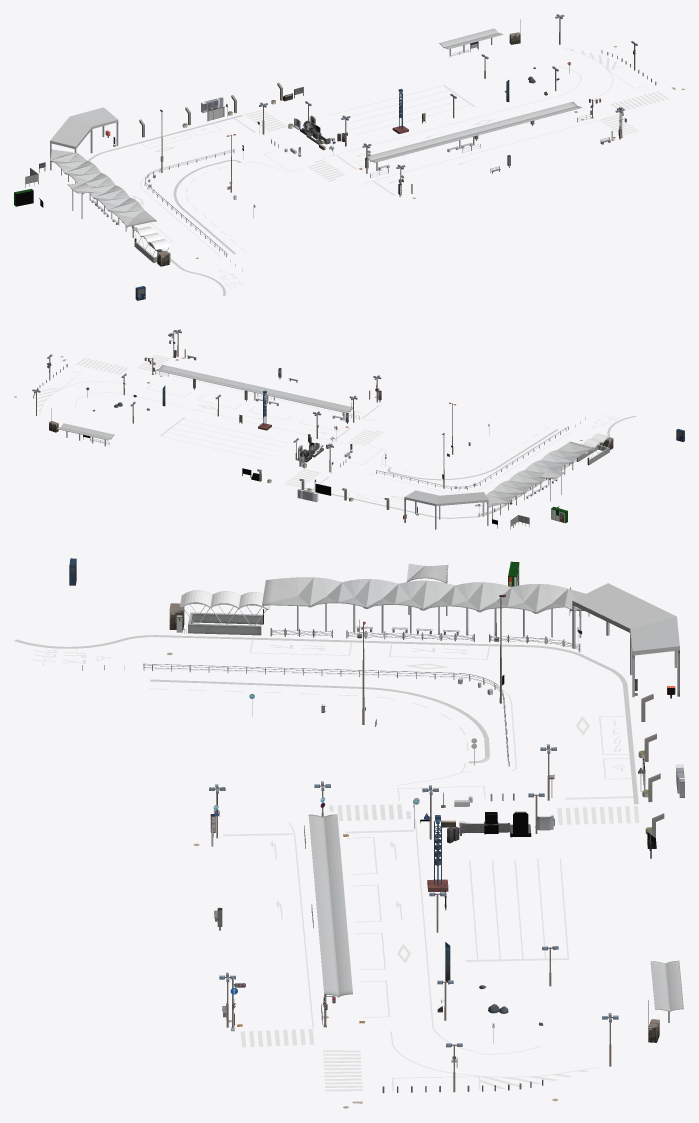
The model's file is frn--20.glb.
3 views of the same model, one above another, from view 1: azimuth 30°, elevation 25°; view 2: azimuth 150°, elevation 25°; view 3: azimuth 270°, elevation 25° (orthographic). The views are drawn at different scales.
Size of the model in its own units: 133 by 12.97 by 71.08.
Materials: 2 (1 with a texture image).
